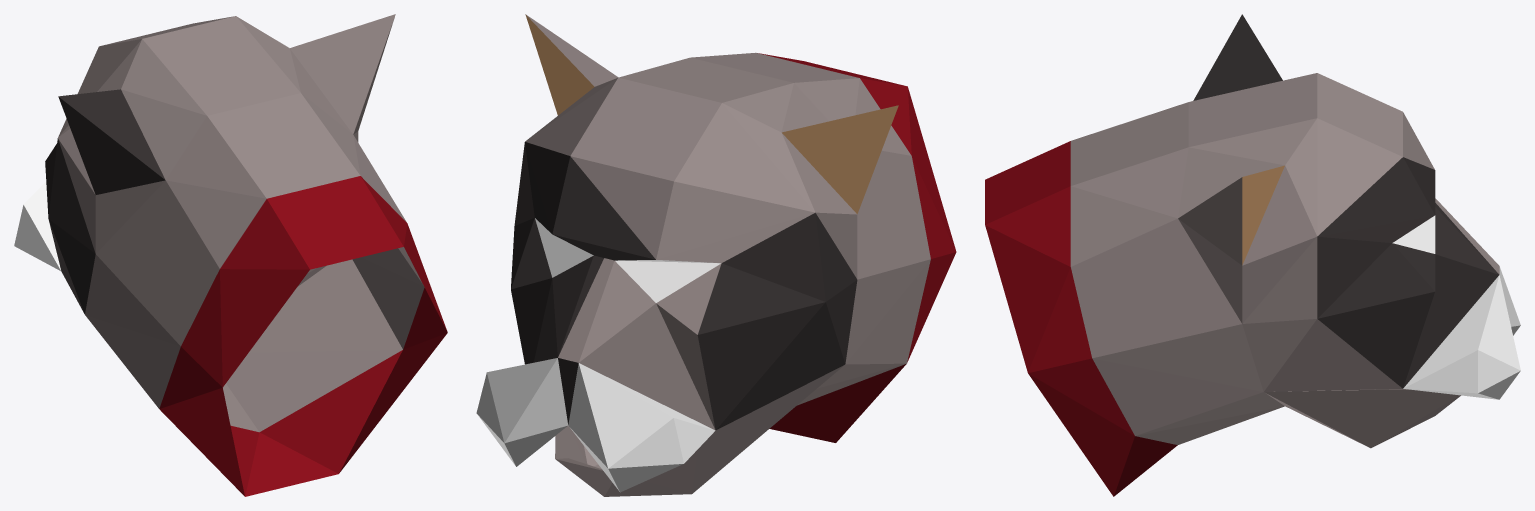
The model's file is inv_pet_kitten_6.obj.
The picture shows the model from 3 angles, left to right: view 1: azimuth 30°, elevation 25°; view 2: azimuth 150°, elevation 25°; view 3: azimuth 270°, elevation 25°; orthographic projection. The views are drawn at different scales.
Bounding box in the file's own units: 0.2812 × 0.3047 × 0.3906.
